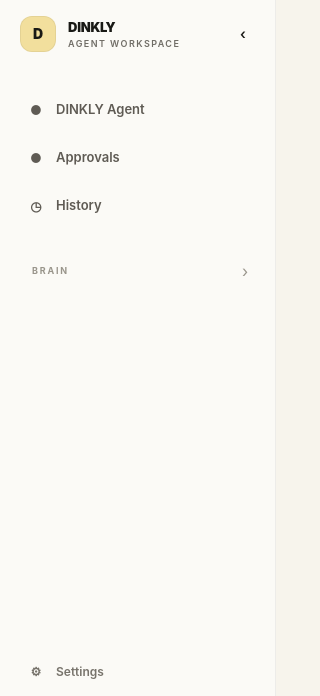
navigation › collapses the Brain by default and reveals its documentation on request
expect the text "Story Library" is not shown: met
Click the button "Brain ›" at coordinates (138, 271), box top-left (16, 260), bottom-right (259, 282)
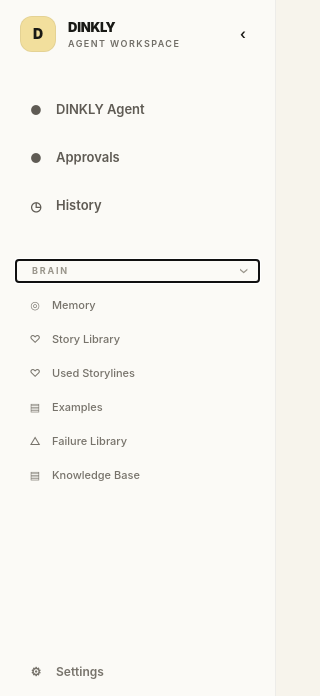
expect the link "◎ Memory" is shown: met, box top-left (30, 298), bottom-right (96, 312)
expect the link "♡ Story Library" is shown: met, box top-left (29, 332), bottom-right (120, 346)
expect the link "♡ Used Storylines" is shown: met, box top-left (29, 366), bottom-right (135, 380)
